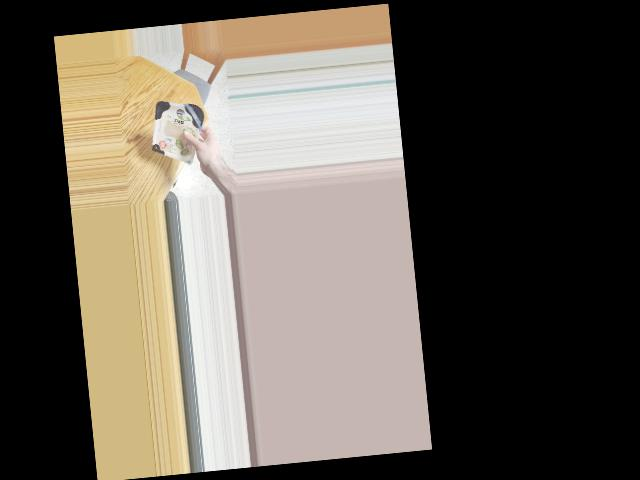cheese: (149, 99, 206, 157)
